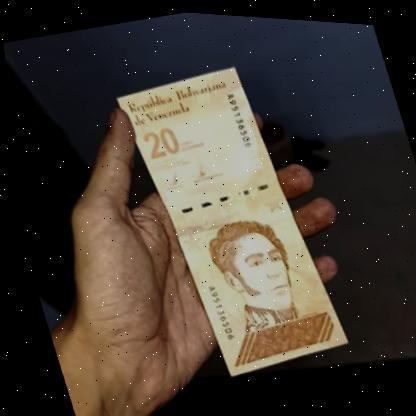twenty-front-vef: (111, 50, 351, 388)
